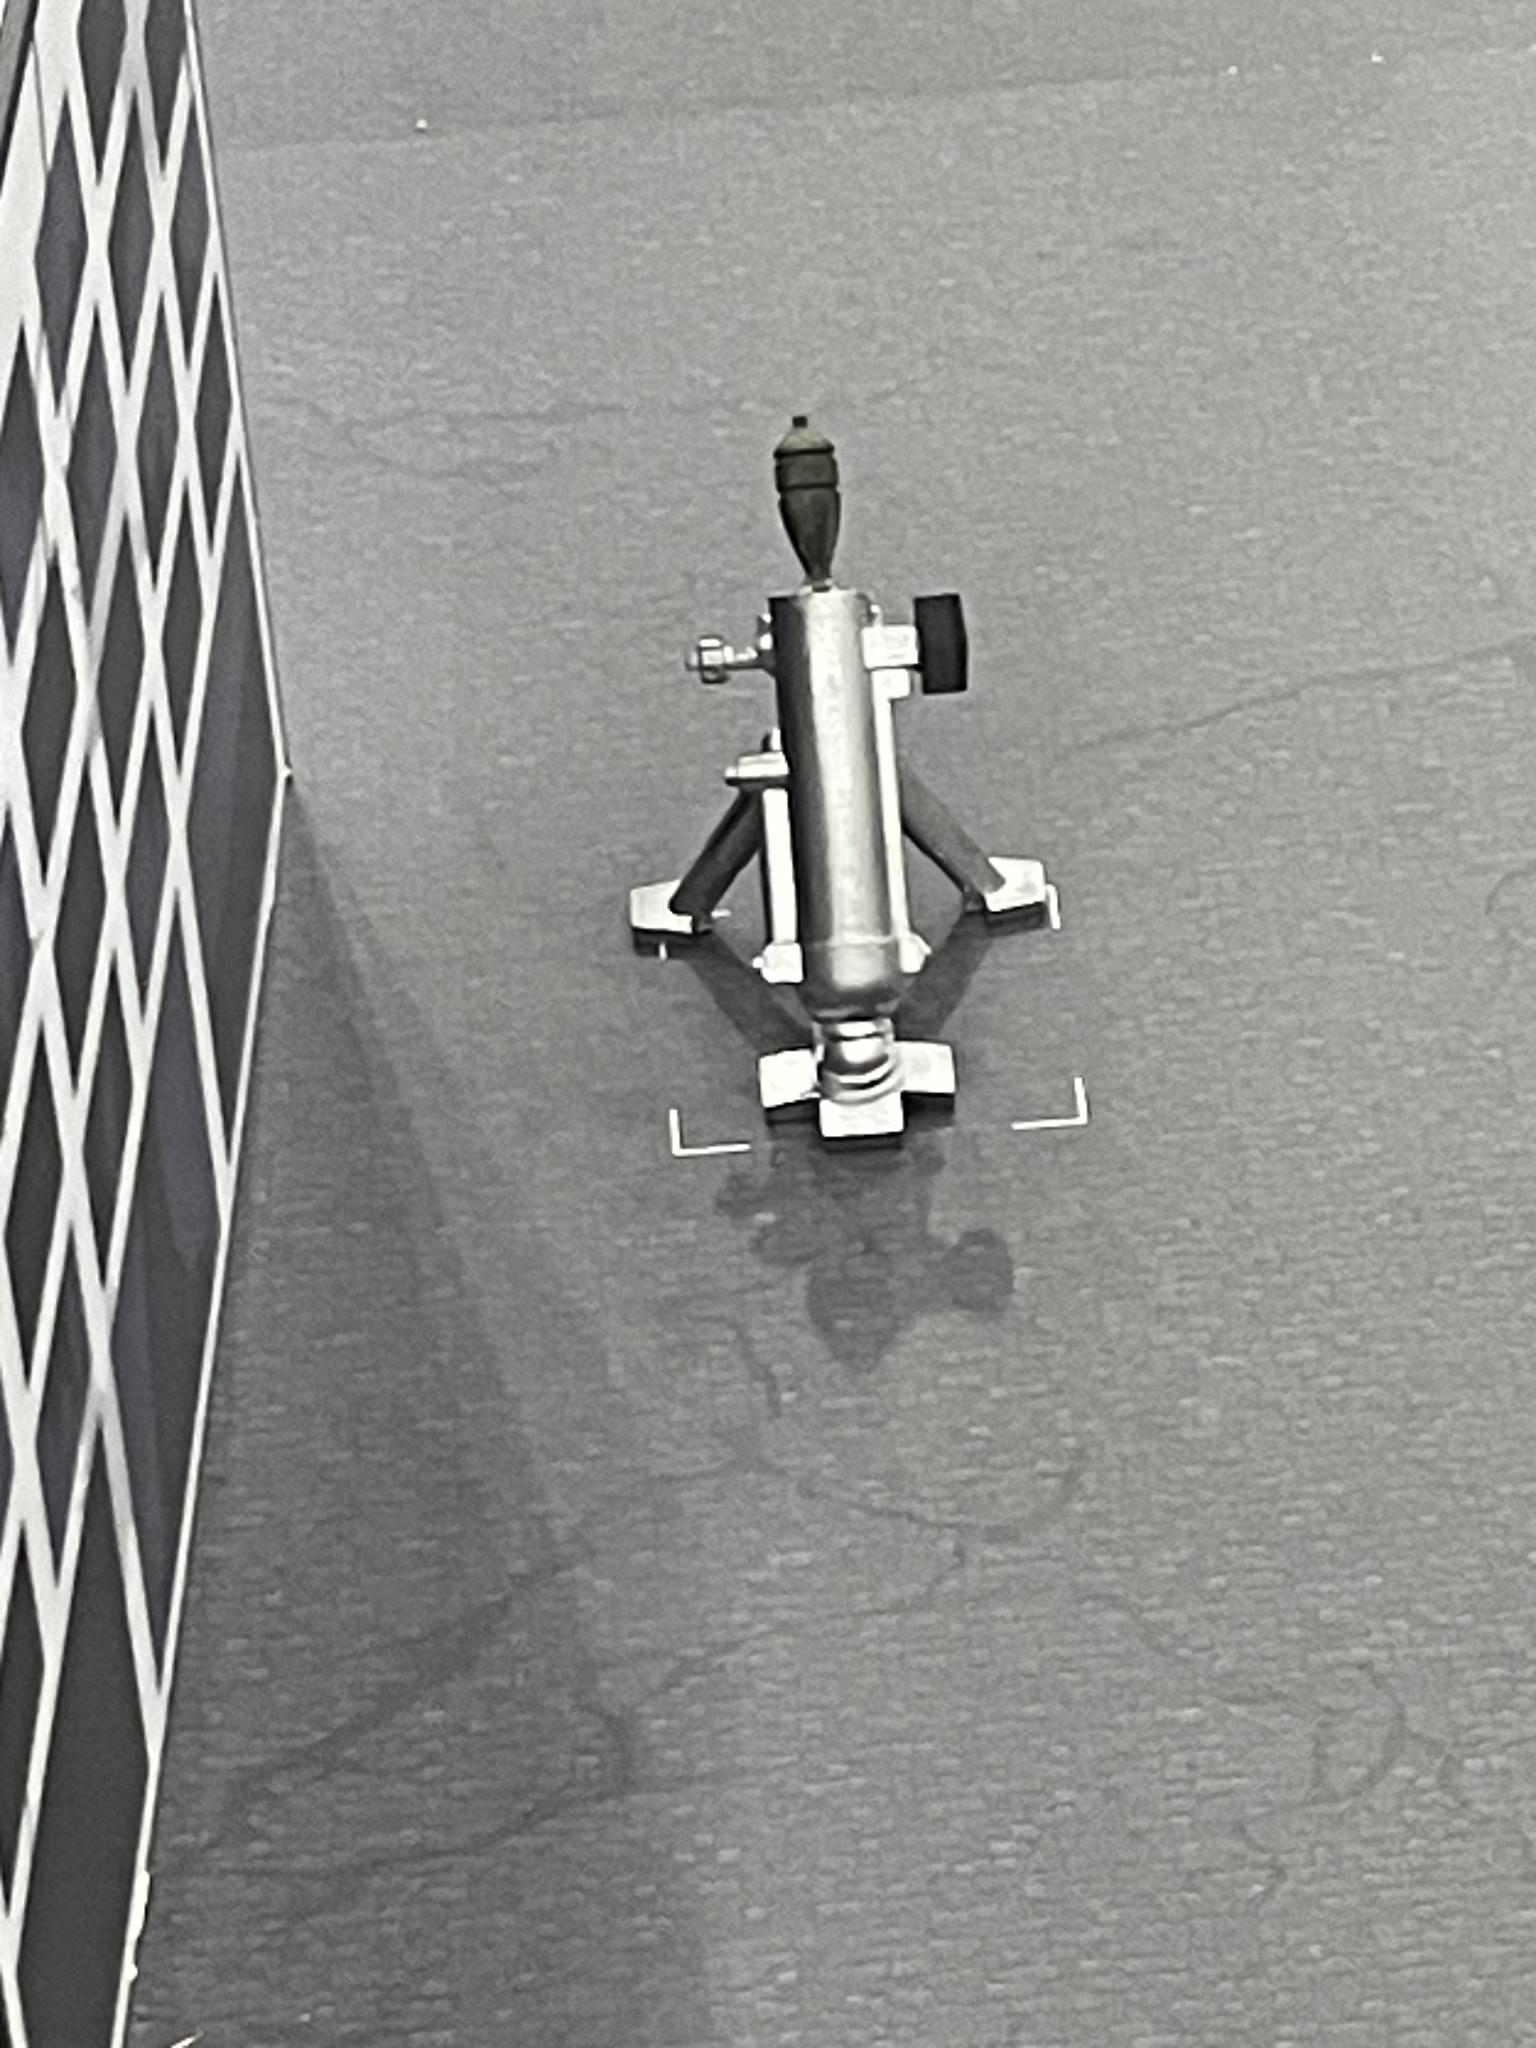Mortar: (616, 389, 1097, 1153)
